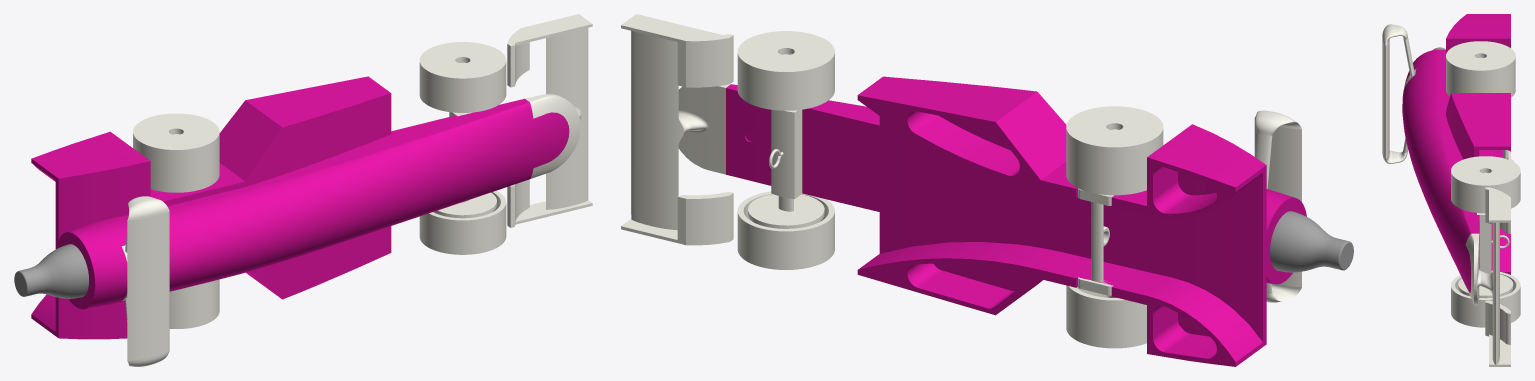
Rendered from 3 - Vega Pro Regionals.fbx.
3 views of the same model, side by side, from view 1: azimuth 30°, elevation 25°; view 2: azimuth 150°, elevation 25°; view 3: azimuth 270°, elevation 25° (orthographic). The views are drawn at different scales.
Visible parts, largest first — view 1: Body1 (×7), Body4, Body3; view 2: Body1 (×8), Body4, Body3; view 3: Body1 (×5), Body4, Body3.
Boxes of the visible parts, <box> form: Body1 (×7): <box>14,42,569,339</box>; Body4: <box>507,14,592,227</box>; Body3: <box>122,196,169,366</box>; Body1 (×8): <box>726,31,1353,366</box>; Body4: <box>621,14,733,245</box>; Body3: <box>1254,110,1301,302</box>; Body1 (×5): <box>1402,14,1520,327</box>; Body4: <box>1465,187,1510,366</box>; Body3: <box>1382,24,1416,163</box>.
Bounding box in the file's own units: 229 × 66 × 56.5.
